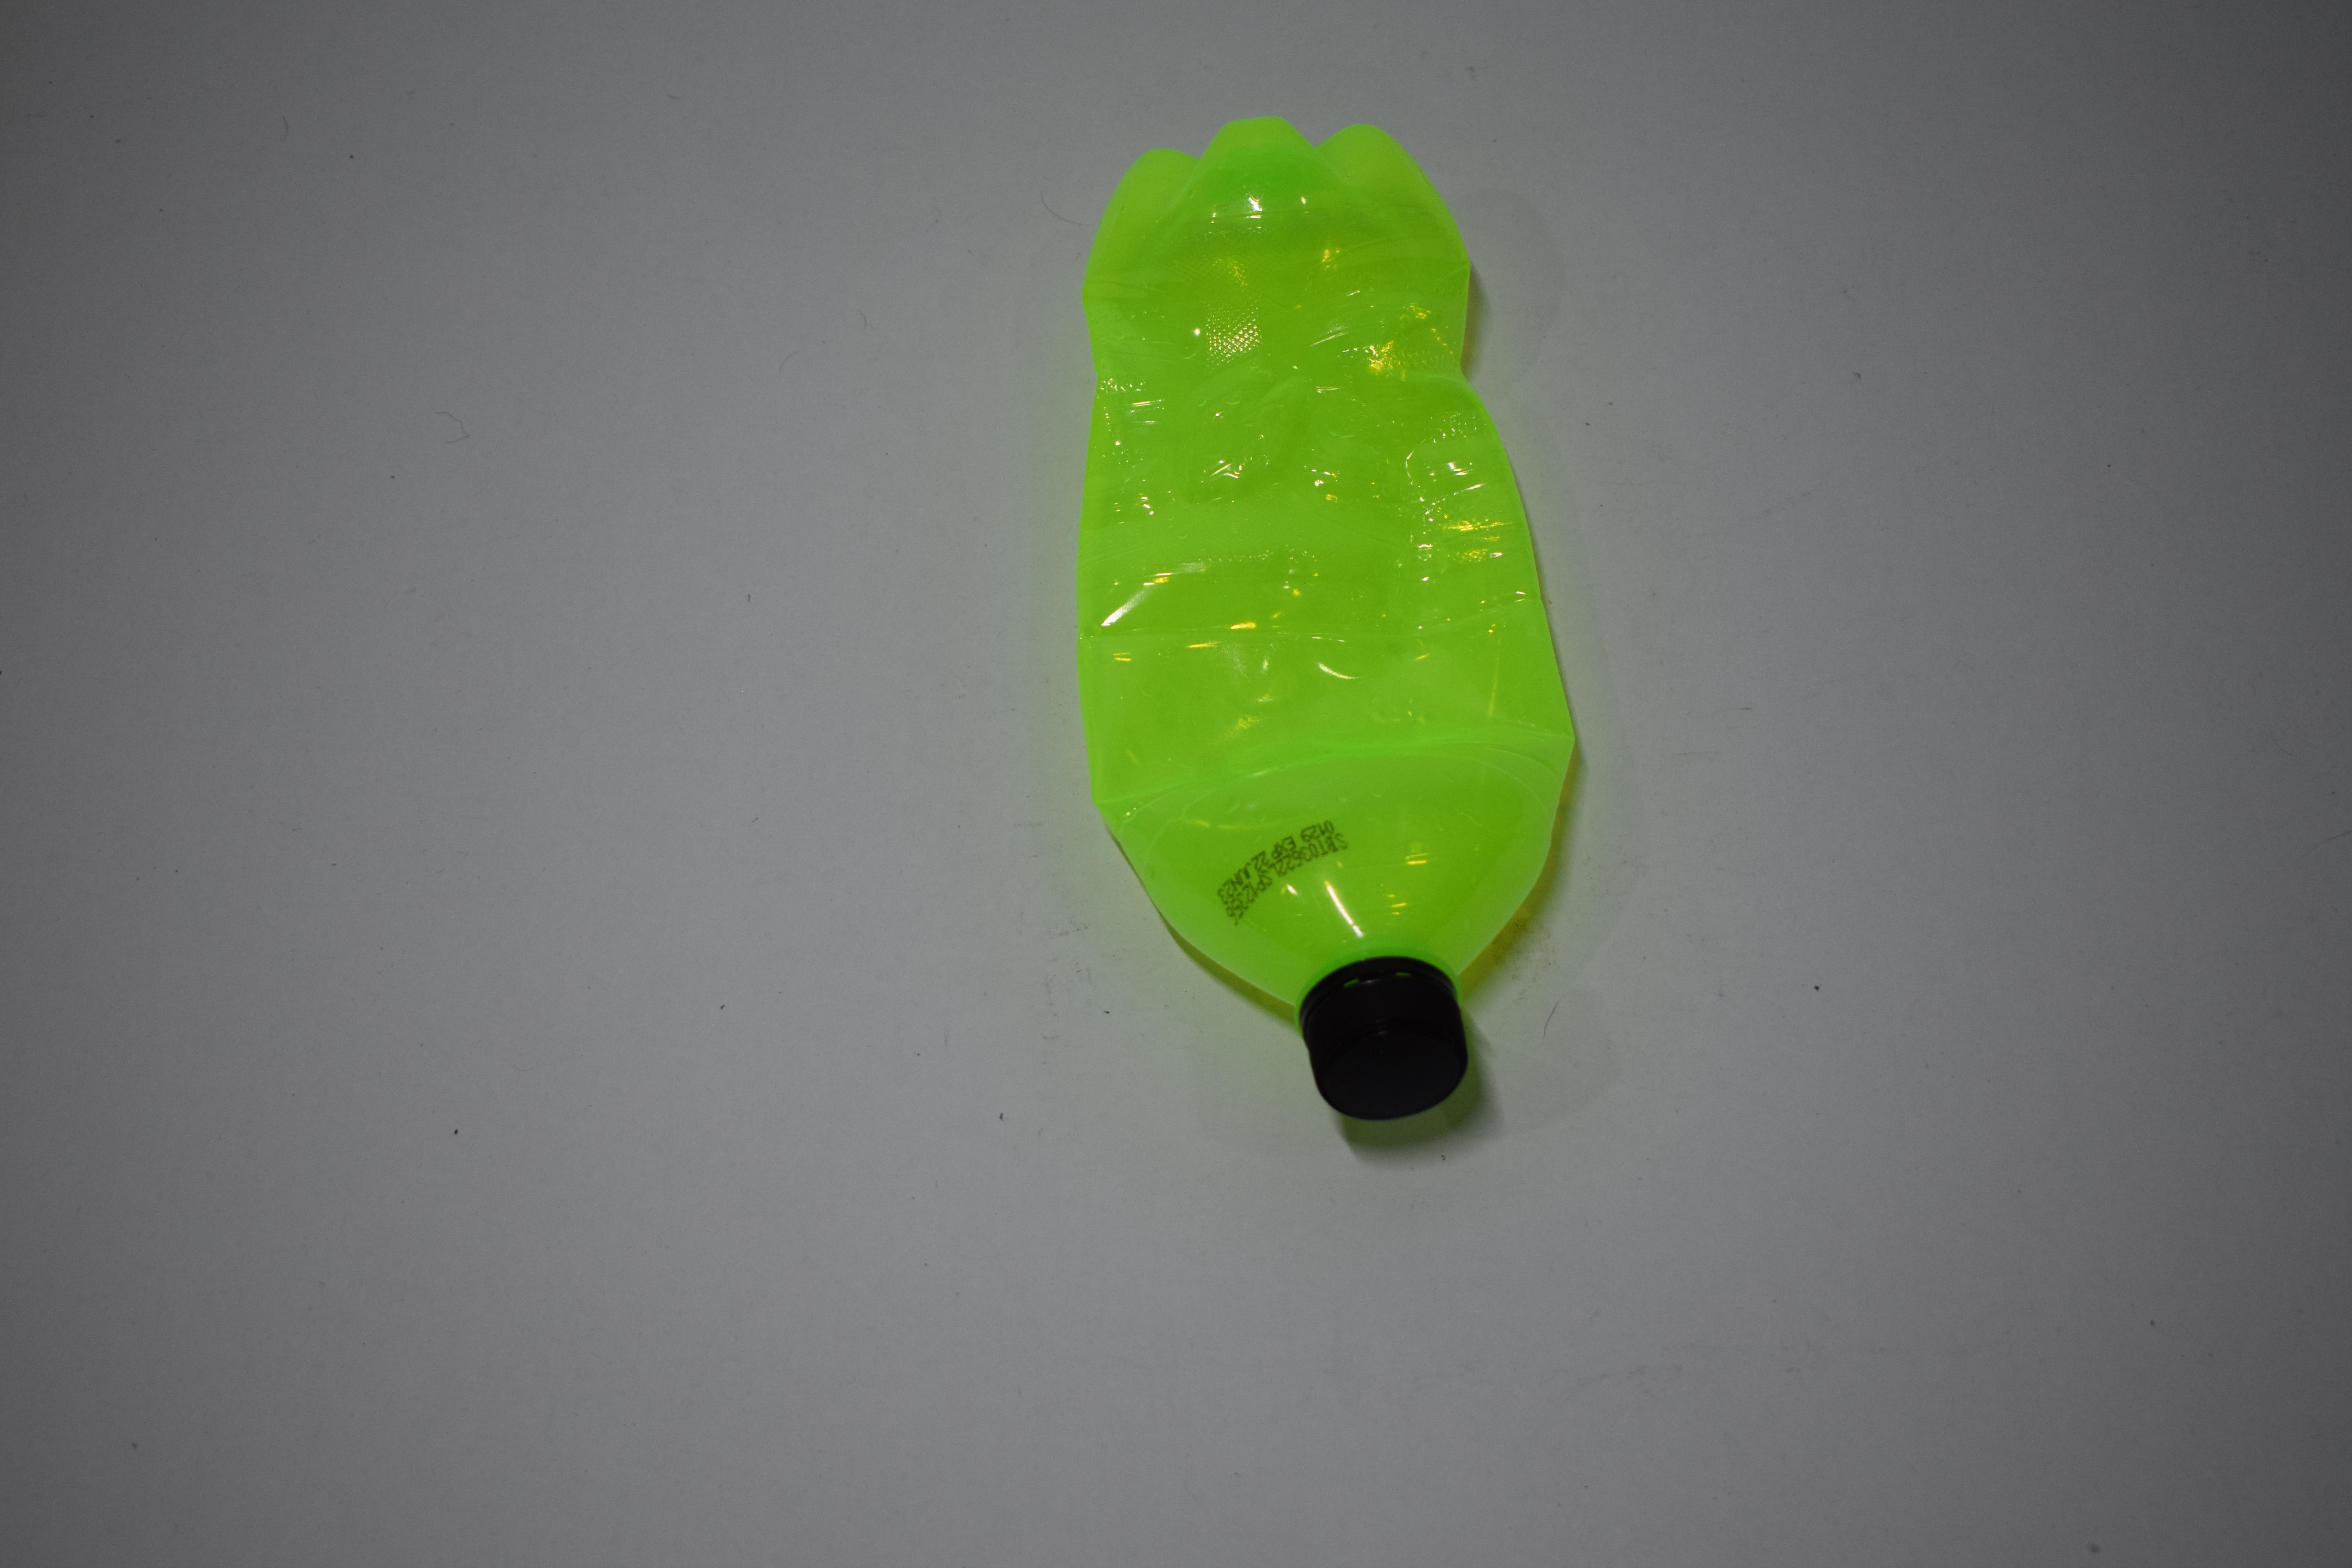bottle: (0, 107, 404, 1120)
